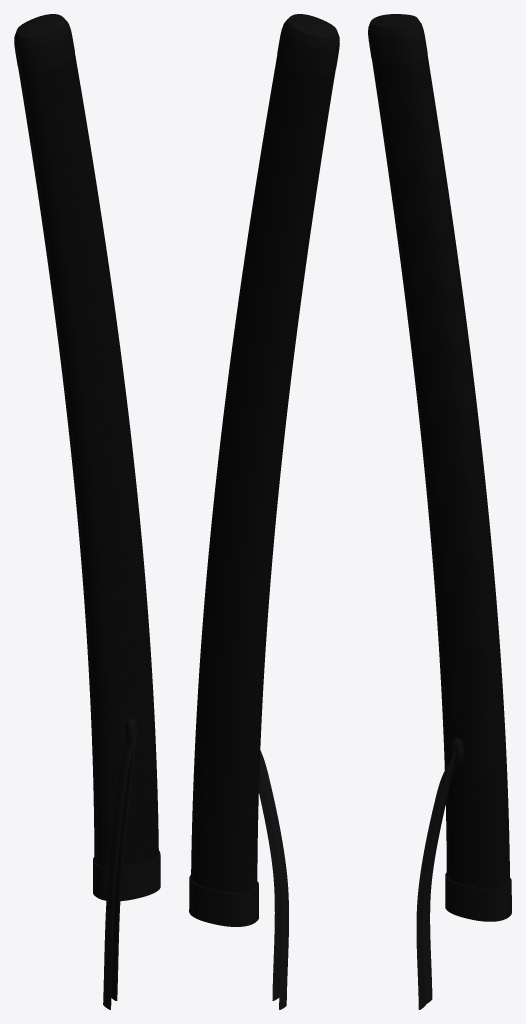
The model's file is katana_saya_hd.glb.
The picture shows the model from 3 angles, left to right: view 1: azimuth 30°, elevation 25°; view 2: azimuth 150°, elevation 25°; view 3: azimuth 330°, elevation 25°; orthographic projection. The views are drawn at different scales.
Parts seen in each view (by area): view 1: Weapon; view 2: Weapon; view 3: Weapon.
Boxes of the visible parts, left/top/right/bottom form: Weapon: left=14, top=14, right=160, bottom=1009; Weapon: left=189, top=14, right=339, bottom=1009; Weapon: left=368, top=14, right=511, bottom=1009.
Bounding box in the file's own units: 0.127 × 0.851 × 0.0577.
Materials: 1 (1 with a texture image).
